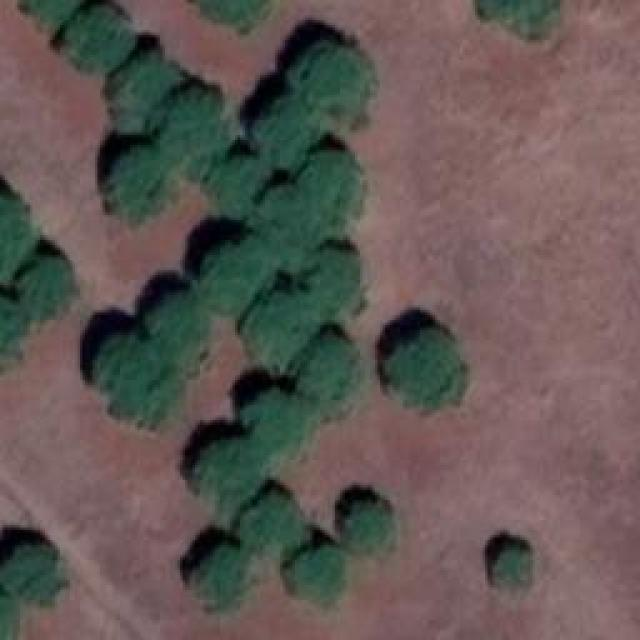Tree: (100, 340, 178, 420), (290, 45, 370, 115), (163, 93, 223, 178), (388, 335, 463, 403), (258, 188, 321, 268), (300, 153, 360, 228), (115, 58, 178, 128), (248, 298, 313, 363), (198, 443, 263, 506), (205, 245, 268, 308), (68, 8, 131, 68), (243, 392, 308, 450), (113, 148, 166, 218), (155, 295, 203, 368), (5, 545, 58, 605), (243, 498, 306, 548), (263, 103, 318, 158), (215, 158, 265, 218), (308, 343, 353, 408), (23, 260, 76, 315), (197, 547, 245, 605), (293, 548, 343, 603), (480, 0, 558, 35), (313, 252, 356, 310), (0, 200, 32, 277), (348, 505, 391, 550), (0, 300, 28, 368), (198, 0, 268, 25), (488, 547, 528, 585), (25, 0, 80, 20)
